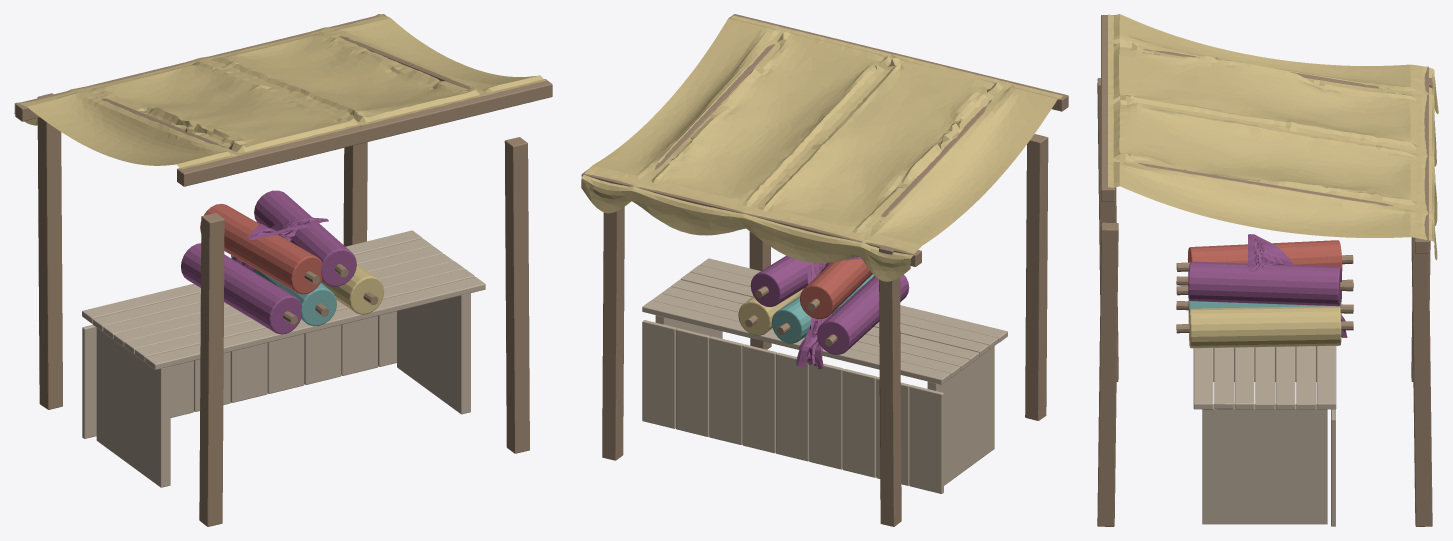
File: kram_sukiennik.glb
The picture shows the model from 3 angles, left to right: view 1: azimuth 30°, elevation 25°; view 2: azimuth 150°, elevation 25°; view 3: azimuth 270°, elevation 25°; orthographic projection. The views are drawn at different scales.
Visible parts, largest first — view 1: kram_sukiennik; view 2: kram_sukiennik; view 3: kram_sukiennik.
Part boxes in pixels (bbox=[...]): kram_sukiennik: bbox=[14, 14, 552, 526]; kram_sukiennik: bbox=[581, 14, 1068, 526]; kram_sukiennik: bbox=[1097, 14, 1438, 526].
Size of the model in its own units: 2.9 by 2.74 by 2.39.
